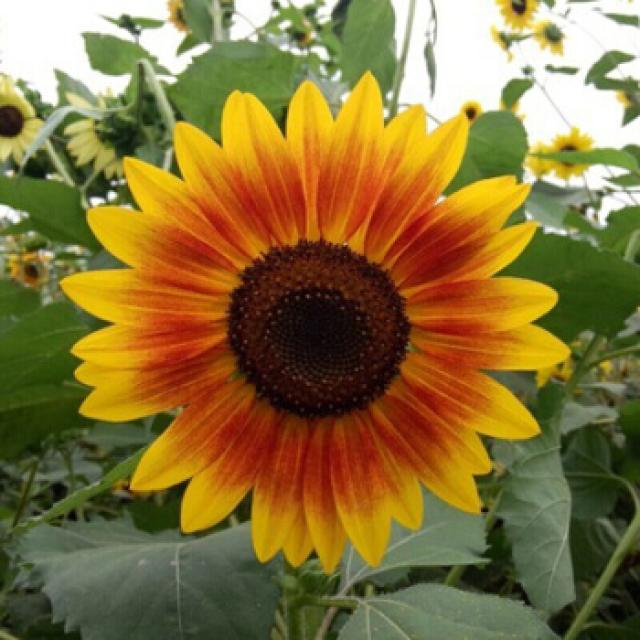sunflower: (67, 71, 573, 594)
